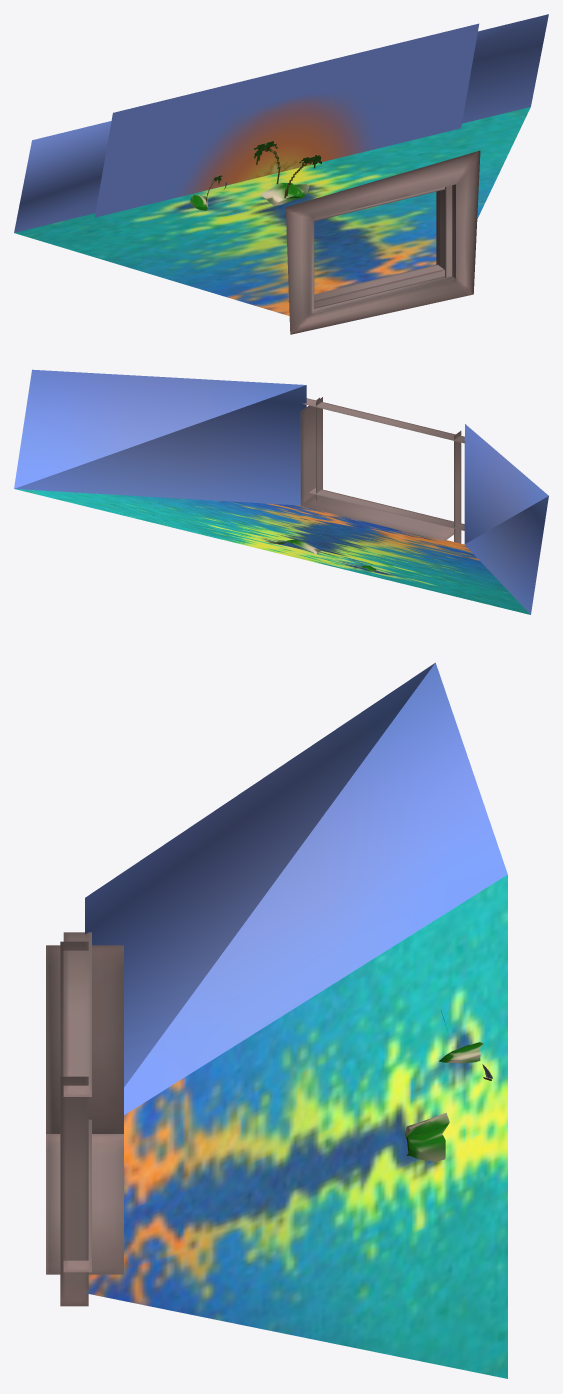
File: tropicView.glb
3 renders of one model, top to bottom at view 1: azimuth 30°, elevation 25°; view 2: azimuth 150°, elevation 25°; view 3: azimuth 270°, elevation 25°, orthographic. The views are drawn at different scales.
Visible parts, largest first — view 1: TropicalBg, TropicalSun, WindowFrame, windowBar2, windowBar3, TropicalIsland1, windowBar; view 2: TropicalBg, WindowFrame, windowBar, windowBar2, windowBar1, windowBar3; view 3: TropicalBg, WindowFrame, windowBar3, windowBar, TropicalIsland1, windowBar2.
Boxes of the visible parts, box(x1,y1,x2,y2) form: TropicalBg: box(14, 14, 548, 315); TropicalSun: box(94, 23, 479, 217); WindowFrame: box(286, 150, 480, 334); windowBar2: box(288, 264, 444, 308); windowBar3: box(438, 185, 452, 277); TropicalIsland1: box(260, 183, 309, 205); windowBar: box(314, 187, 444, 221); TropicalBg: box(14, 369, 548, 614); WindowFrame: box(300, 397, 453, 540); windowBar: box(302, 398, 465, 443); windowBar2: box(309, 488, 465, 530); windowBar1: box(454, 431, 461, 543); windowBar3: box(316, 397, 322, 500); TropicalBg: box(85, 662, 507, 1378); WindowFrame: box(46, 945, 123, 1274); windowBar3: box(60, 1076, 88, 1306); windowBar: box(63, 932, 91, 1096); TropicalIsland1: box(404, 1112, 449, 1161); windowBar2: box(63, 1119, 91, 1272).
Bounding box in the file's own units: 28.22 × 9.27 × 11.13.
Materials: 3 (3 with a texture image).
